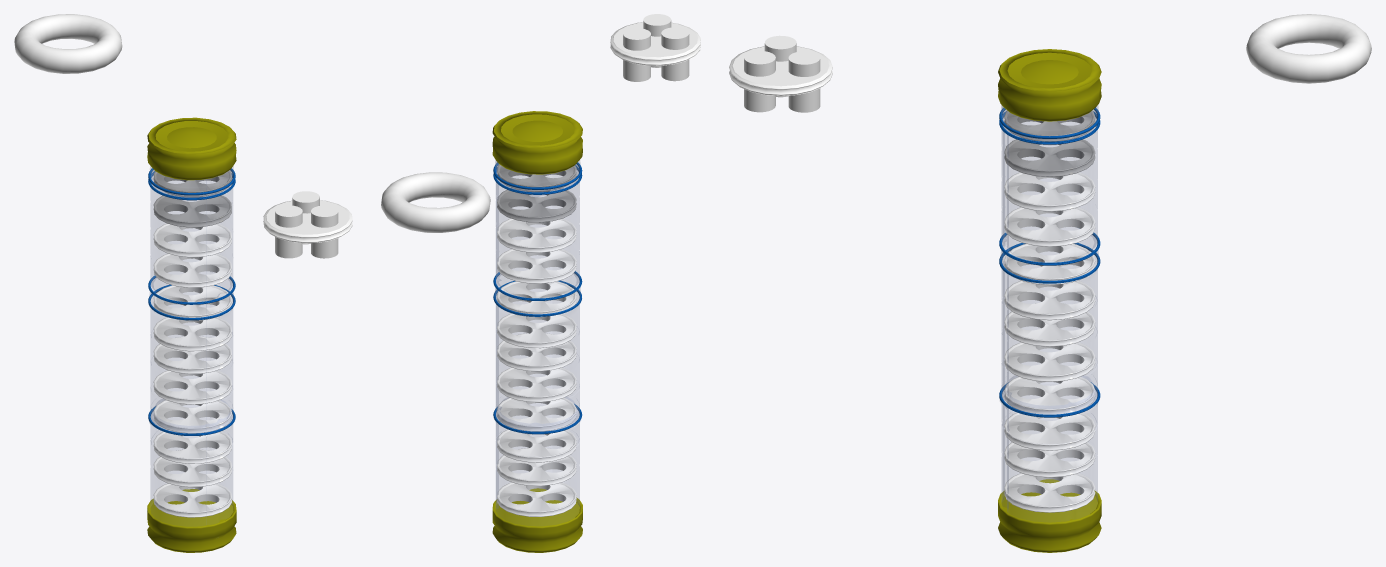
Rendered from donut_mesh_collider.fbx.
The picture shows the model from 3 angles, left to right: view 1: azimuth 30°, elevation 25°; view 2: azimuth 150°, elevation 25°; view 3: azimuth 270°, elevation 25°; orthographic projection. The views are drawn at different scales.
Visible parts, largest first — view 1: cylinder_Body, pTorus4, Cylinder_lid_top, Cylinder_lid_bottom_, Rainstick_Body_ChipCombined_1, polySurface4, polySurface6, polySurface12, polySurface8, polySurface3, polySurface9, polySurface10 (+7 smaller); view 2: cylinder_Body, pTorus4, Cylinder_lid_top, Cylinder_lid_bottom_, Rainstick_Body_ChipCombined_1, polySurface4, polySurface8, polySurface6, polySurface12, polySurface3, polySurface9, polySurface10 (+7 smaller); view 3: cylinder_Body, pTorus4, Cylinder_lid_top, Cylinder_lid_bottom_, Rainstick_Body_ChipCombined_1, polySurface12, polySurface4, polySurface8, polySurface6, polySurface3, pasted__pasted__pCylinder2 (×2), polySurface9 (+6 smaller).
Part boxes in pixels (x1=…): cylinder_Body: x1=149, y1=166, x2=233, y2=525; pTorus4: x1=14, y1=14, x2=122, y2=73; Cylinder_lid_top: x1=147, y1=117, x2=236, y2=180; Cylinder_lid_bottom_: x1=147, y1=489, x2=236, y2=552; Rainstick_Body_ChipCombined_1: x1=153, y1=170, x2=231, y2=227; polySurface4: x1=153, y1=253, x2=231, y2=287; polySurface6: x1=153, y1=317, x2=231, y2=351; polySurface12: x1=153, y1=483, x2=231, y2=517; polySurface8: x1=153, y1=370, x2=231, y2=404; polySurface3: x1=153, y1=223, x2=231, y2=257; polySurface9: x1=153, y1=400, x2=231, y2=433; polySurface10: x1=153, y1=430, x2=231, y2=463; cylinder_Body: x1=495, y1=160, x2=580, y2=525; pTorus4: x1=381, y1=172, x2=490, y2=232; Cylinder_lid_top: x1=492, y1=111, x2=582, y2=174; Cylinder_lid_bottom_: x1=492, y1=488, x2=582, y2=552; Rainstick_Body_ChipCombined_1: x1=497, y1=164, x2=576, y2=222; polySurface4: x1=497, y1=249, x2=576, y2=283; polySurface8: x1=497, y1=367, x2=576, y2=402; polySurface6: x1=497, y1=313, x2=576, y2=348; polySurface12: x1=497, y1=482, x2=576, y2=516; polySurface3: x1=497, y1=218, x2=576, y2=252; polySurface9: x1=497, y1=397, x2=576, y2=431; polySurface10: x1=497, y1=428, x2=576, y2=462; cylinder_Body: x1=1000, y1=105, x2=1098, y2=521; pTorus4: x1=1246, y1=14, x2=1371, y2=83; Cylinder_lid_top: x1=998, y1=49, x2=1101, y2=121; Cylinder_lid_bottom_: x1=998, y1=479, x2=1101, y2=552; Rainstick_Body_ChipCombined_1: x1=1004, y1=110, x2=1095, y2=176; polySurface12: x1=1004, y1=473, x2=1095, y2=512; polySurface4: x1=1004, y1=207, x2=1095, y2=246; polySurface8: x1=1004, y1=342, x2=1095, y2=381; polySurface6: x1=1004, y1=280, x2=1095, y2=320; polySurface3: x1=1004, y1=172, x2=1095, y2=211; pasted__pasted__pCylinder2 (×2): x1=744, y1=51, x2=820, y2=112; polySurface9: x1=1004, y1=376, x2=1095, y2=414.
Size of the model in its own units: 2.69 by 11.23 by 13.29.
